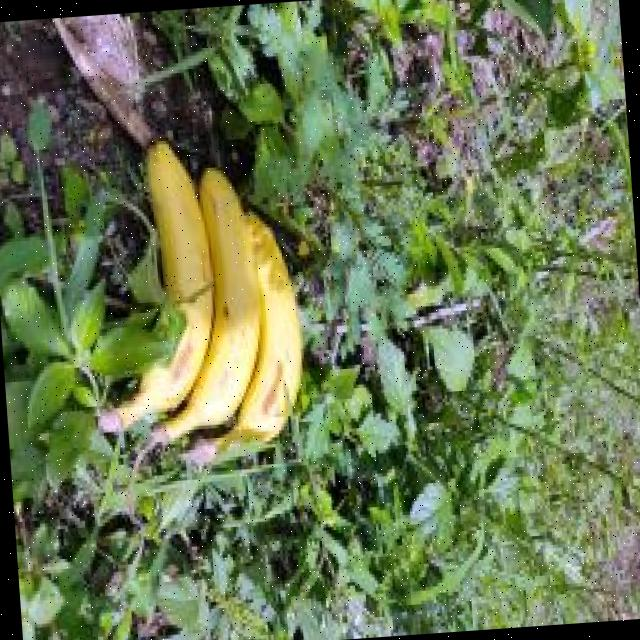banana: (99, 141, 213, 432), (153, 169, 260, 441), (208, 214, 301, 460)
